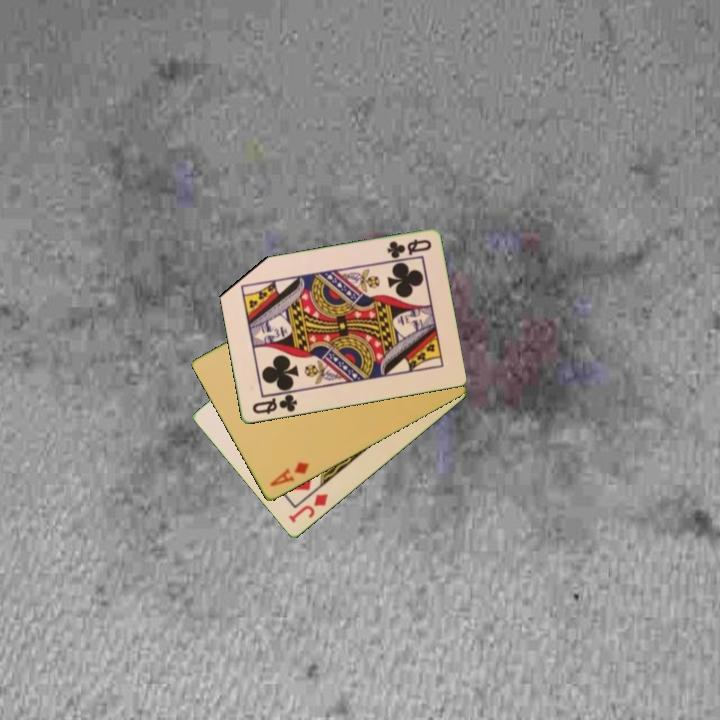Ad: (266, 459, 312, 490)
Jd: (285, 490, 331, 526)
Qc: (248, 391, 300, 417), (383, 236, 434, 261)
